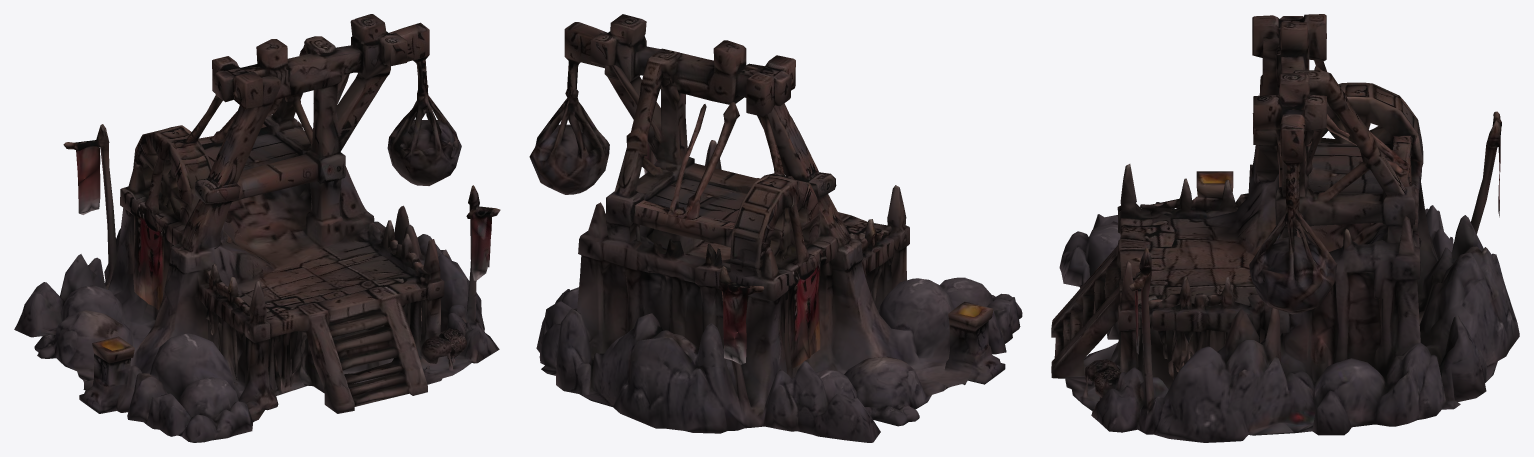
3 renders of one model, left to right at view 1: azimuth 30°, elevation 25°; view 2: azimuth 150°, elevation 25°; view 3: azimuth 270°, elevation 25°, orthographic. The views are drawn at different scales.
Parts seen in each view (by area): view 1: tripo_node_06afa645-e6a2-4ee6-bde4-1886022b5eed; view 2: tripo_node_06afa645-e6a2-4ee6-bde4-1886022b5eed; view 3: tripo_node_06afa645-e6a2-4ee6-bde4-1886022b5eed.
Part boxes in pixels (x1,y1,x2,y2): tripo_node_06afa645-e6a2-4ee6-bde4-1886022b5eed: (14, 14, 500, 442); tripo_node_06afa645-e6a2-4ee6-bde4-1886022b5eed: (529, 14, 1022, 442); tripo_node_06afa645-e6a2-4ee6-bde4-1886022b5eed: (1051, 14, 1519, 442).
Bounding box in the file's own units: 3.6 × 2.44 × 3.15.
Materials: 1 (1 with a texture image).
